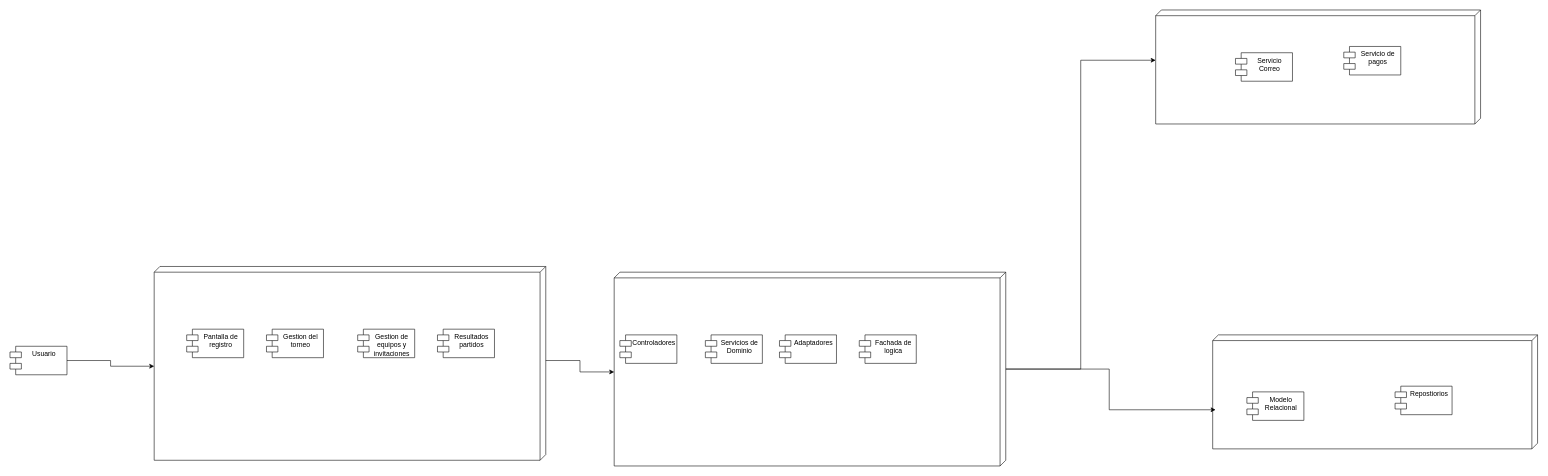
This 1548x476 diagram has some shape labels left out. Here are the shapes that lost their labels. From the top down, the box of each, then its label:
(1155, 9, 1481, 124): Servicios Externos
(154, 266, 546, 460): Fronted Web
(614, 272, 1006, 466): Backend Core
(1212, 334, 1538, 449): Persistencia
